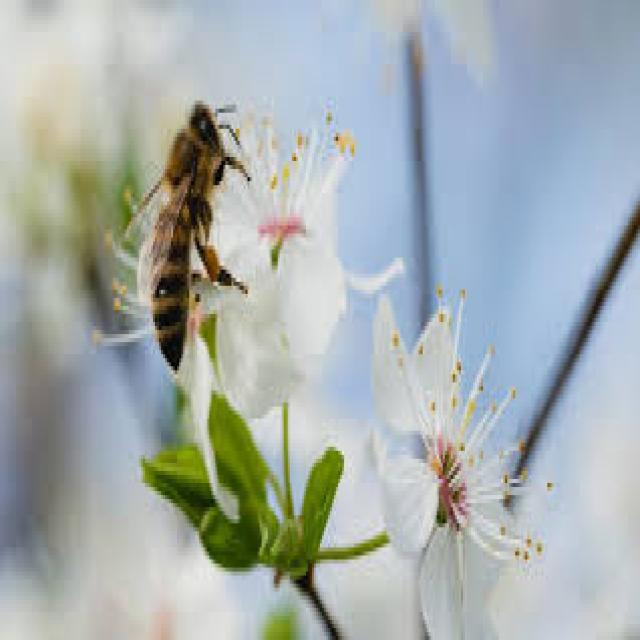Bees: (123, 98, 253, 369)
